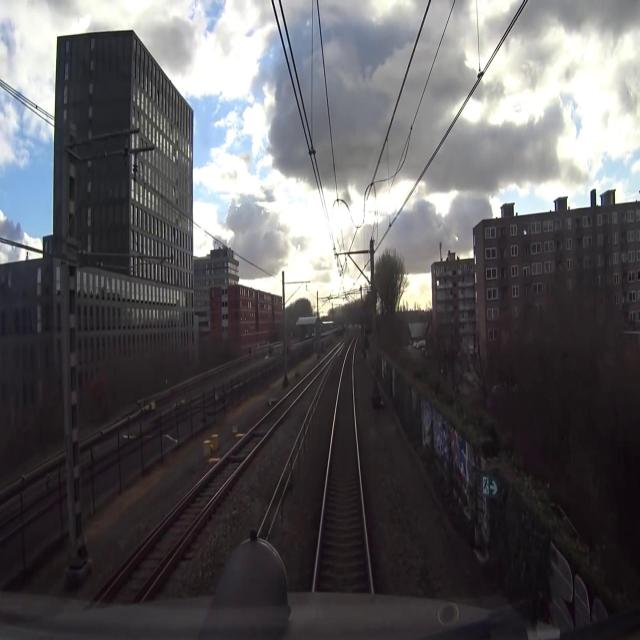rail-track: (101, 360, 326, 605), (316, 337, 369, 590)
